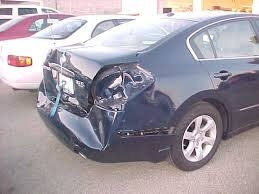Broken-glass: (92, 62, 144, 109)
Smashed: (39, 48, 137, 157)
